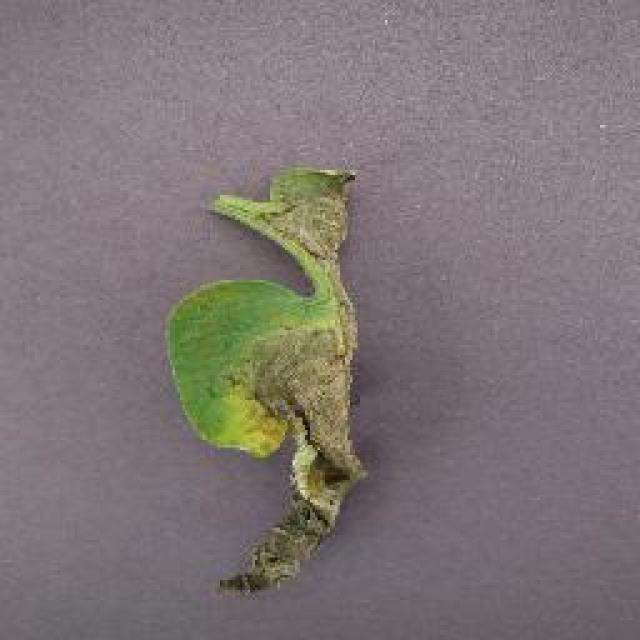Tomato___Late_blight: (162, 168, 370, 600)
